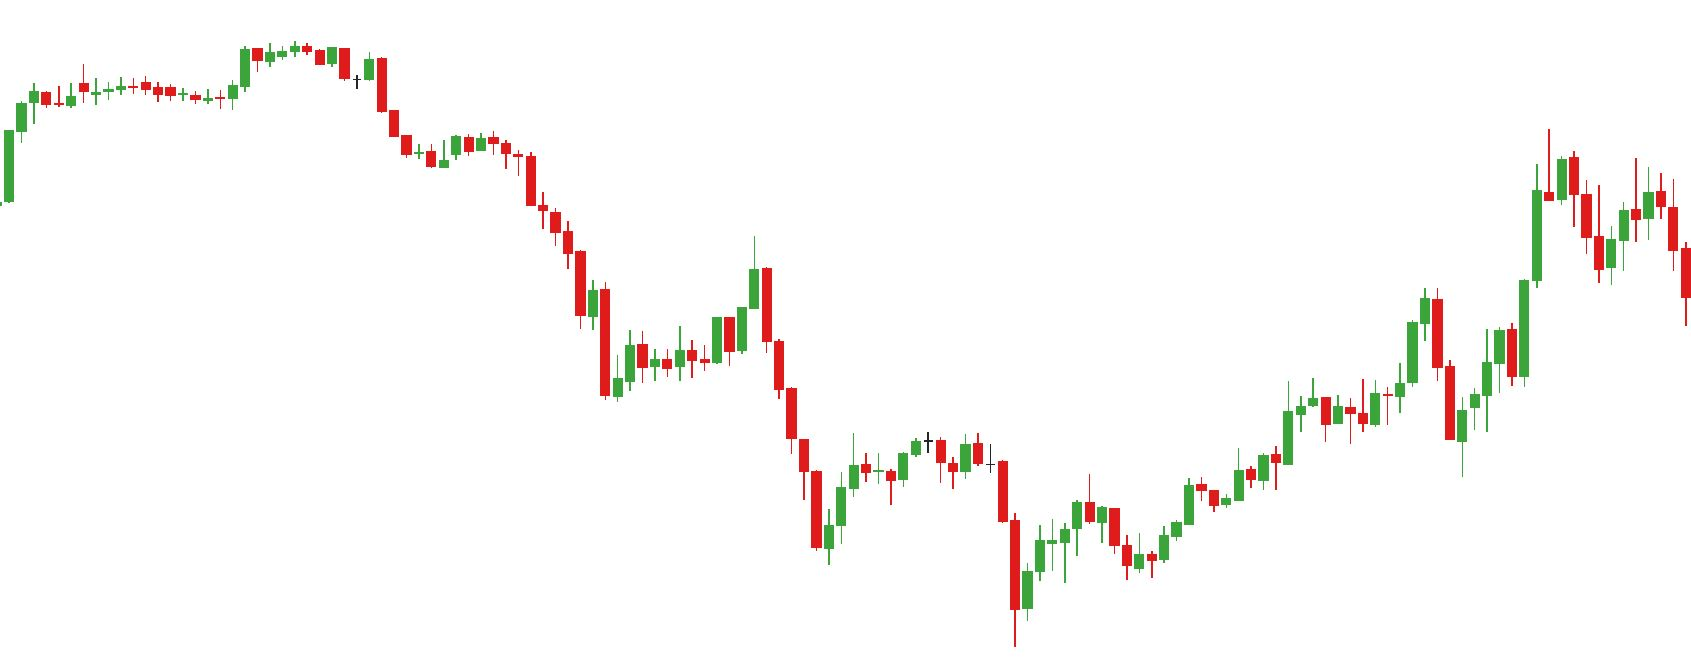buy: (824, 467, 1045, 654), (1317, 366, 1469, 485)
sell: (589, 235, 759, 341)
